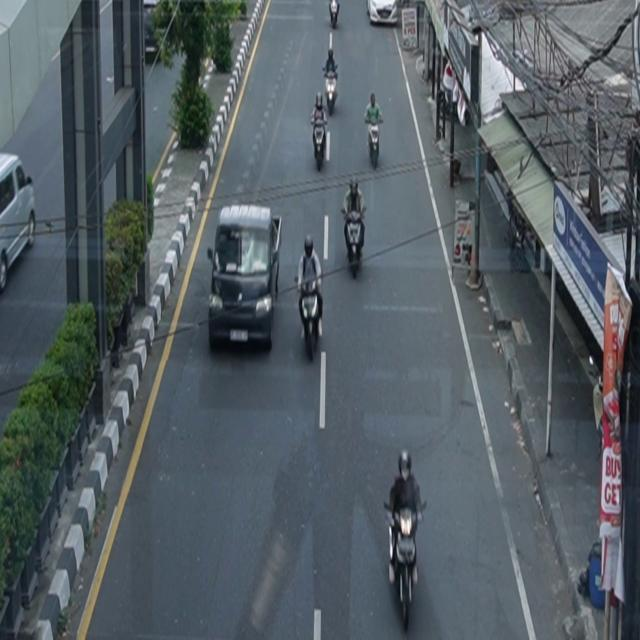car: (208, 204, 283, 352), (367, 1, 398, 26)
